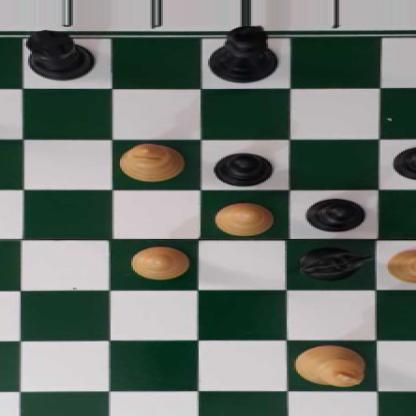black-king: (206, 23, 283, 86)
black-knight: (300, 245, 367, 281)
black-pawn: (212, 149, 274, 185), (305, 196, 364, 232), (392, 144, 416, 180)
black-rook: (21, 32, 97, 78)
white-bishop: (122, 142, 184, 182)
white-king: (292, 343, 369, 387)
white-pawn: (210, 201, 275, 235), (127, 245, 189, 279), (386, 248, 416, 283)
